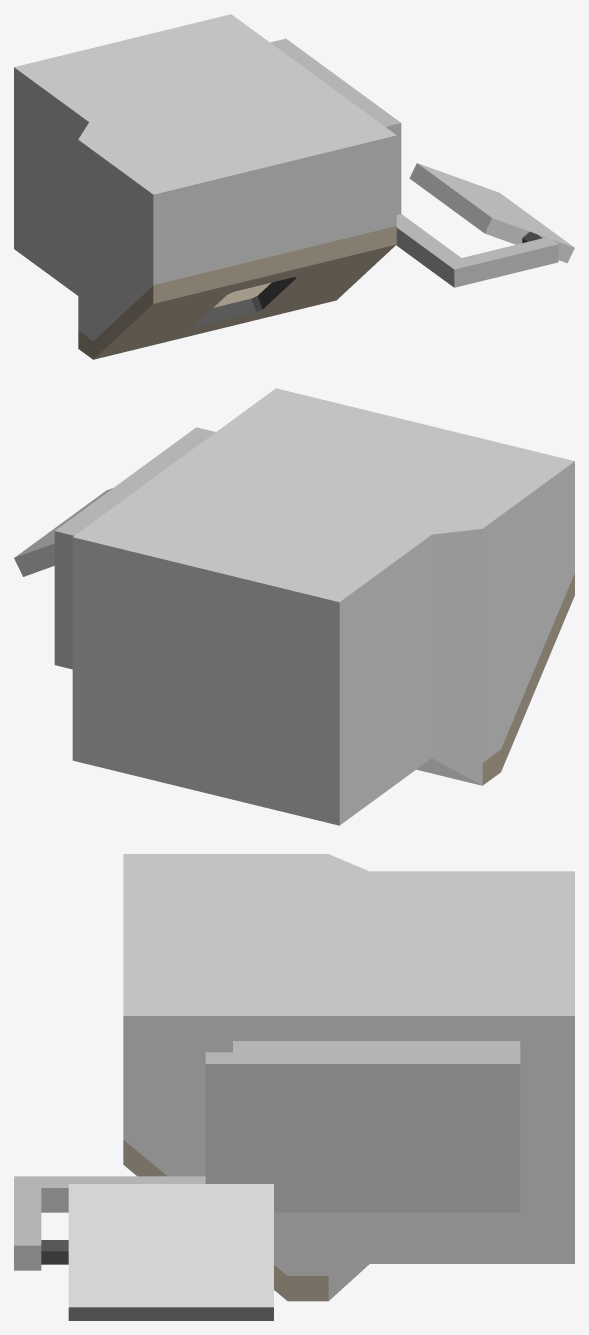
The model's file is cnc_lathe_machine_5_state_2.dae.
3 views of the same model, one above another, from view 1: azimuth 30°, elevation 25°; view 2: azimuth 150°, elevation 25°; view 3: azimuth 270°, elevation 25° (orthographic). The views are drawn at different scales.
Parts seen in each view (by area): view 1: coords_ME_ID65_MA_material_8, coords_ME_ID123_MA_material_11, coords_ME_ID53_MA_material_13, coords_ME_ID25_MA_material_11, coords_ME_ID103_MA_material_8, coords_ME_ID47_MA_material, coords_ME_ID39_MA_material_13; view 2: coords_ME_ID65_MA_material_8, coords_ME_ID25_MA_material_11, coords_ME_ID53_MA_material_13, coords_ME_ID103_MA_material_8; view 3: coords_ME_ID65_MA_material_8, coords_ME_ID25_MA_material_11, coords_ME_ID103_MA_material_8, coords_ME_ID53_MA_material_13, coords_ME_ID59_MA_material.
Boxes of the visible parts, <box> form: coords_ME_ID65_MA_material_8: <box>14,14,396,340</box>; coords_ME_ID123_MA_material_11: <box>153,135,396,285</box>; coords_ME_ID53_MA_material_13: <box>78,226,396,359</box>; coords_ME_ID25_MA_material_11: <box>270,38,558,287</box>; coords_ME_ID103_MA_material_8: <box>409,163,574,263</box>; coords_ME_ID47_MA_material: <box>193,277,296,327</box>; coords_ME_ID39_MA_material_13: <box>213,283,270,307</box>; coords_ME_ID65_MA_material_8: <box>72,388,574,825</box>; coords_ME_ID25_MA_material_11: <box>54,427,215,669</box>; coords_ME_ID53_MA_material_13: <box>482,573,574,785</box>; coords_ME_ID103_MA_material_8: <box>14,488,112,576</box>; coords_ME_ID65_MA_material_8: <box>123,854,574,1300</box>; coords_ME_ID25_MA_material_11: <box>14,1041,520,1270</box>; coords_ME_ID103_MA_material_8: <box>68,1184,273,1320</box>; coords_ME_ID53_MA_material_13: <box>123,1140,328,1301</box>; coords_ME_ID59_MA_material: <box>41,1240,68,1264</box>.
Bounding box in the file's own units: 25.46 × 12.95 × 22.6.
